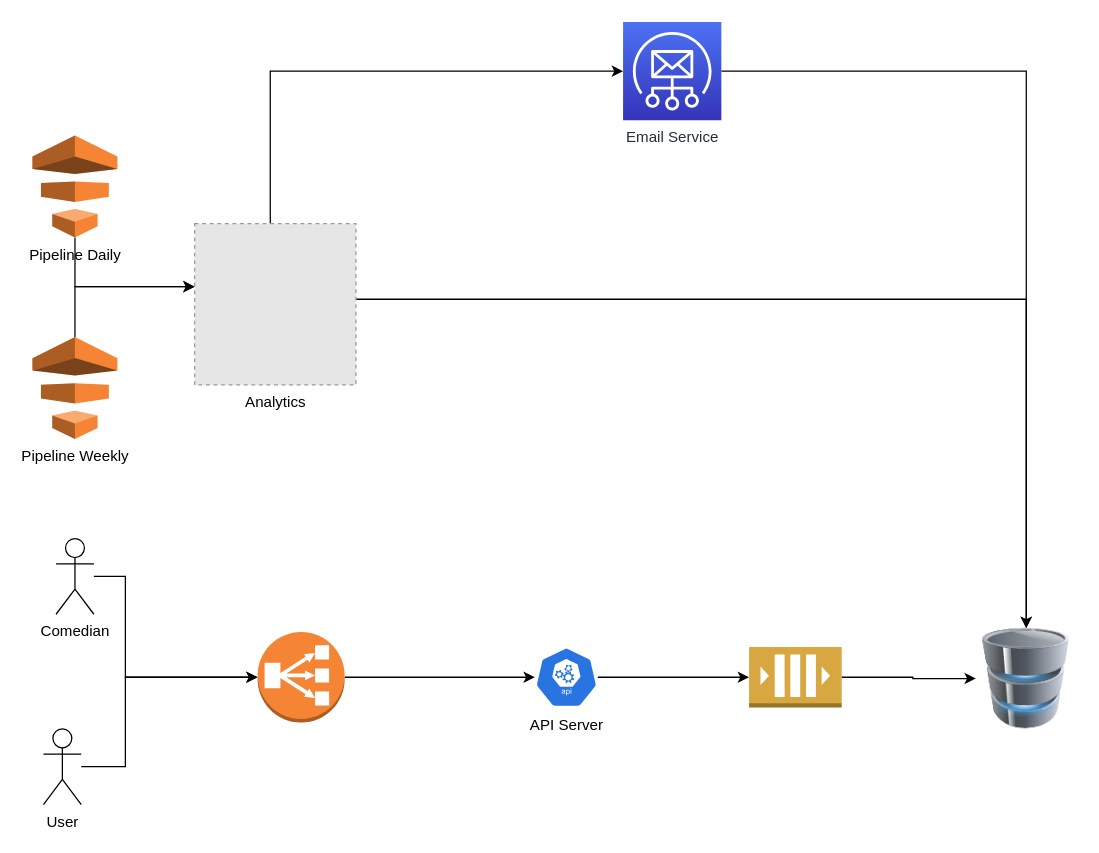
Image size: 1099x853. Some labels were removed from this diagram. Grey dashed boxes stand in for pictures. Each missing label, with the centre of its shape:
Database: point (1025, 677)
Load Balancer: point (300, 677)
Message Queue: point (795, 676)
